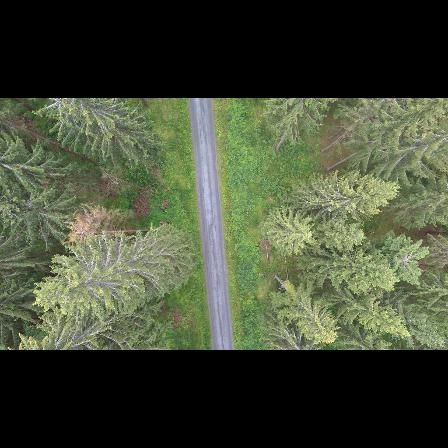Sick: (388, 242, 424, 280)
